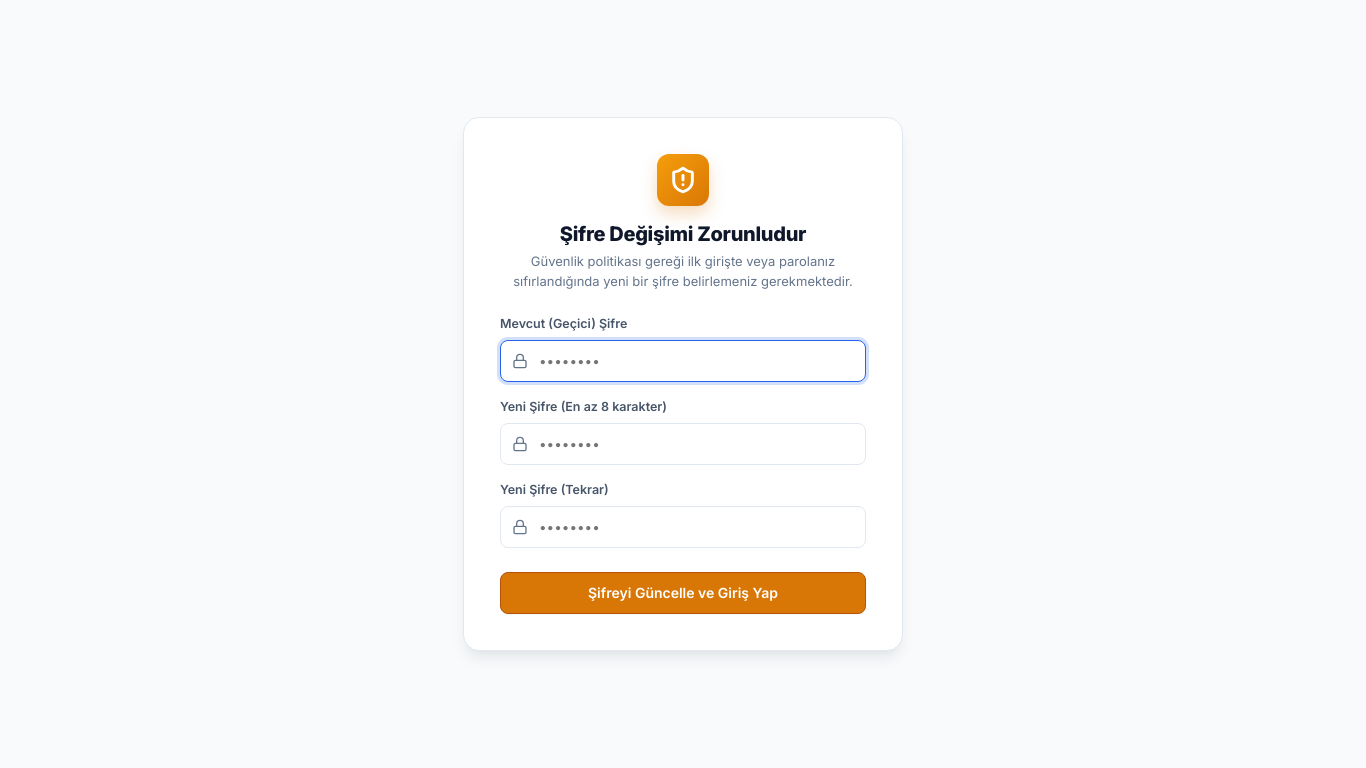
Test: ForceChangePassword Component › should display error if new password and confirmation do not match
Type "oldpass123" into the password field labelled "Mevcut (Geçici) Şifre".
click(683, 361); type("oldpass123")  # box left=500, top=340, right=866, bottom=382
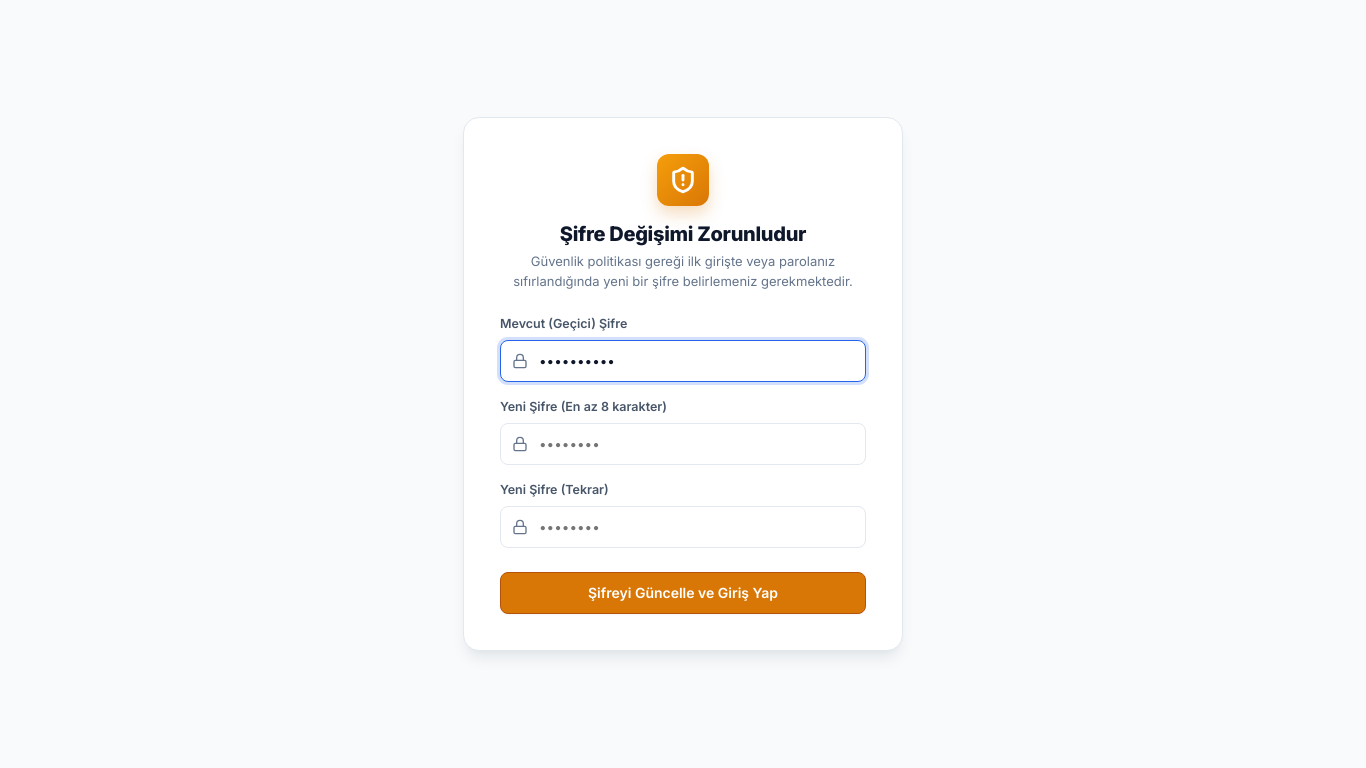
Type "newpassword123" into the password field labelled "Yeni Şifre (En az 8 karakter)".
click(683, 444); type("newpassword123")  # box left=500, top=423, right=866, bottom=465
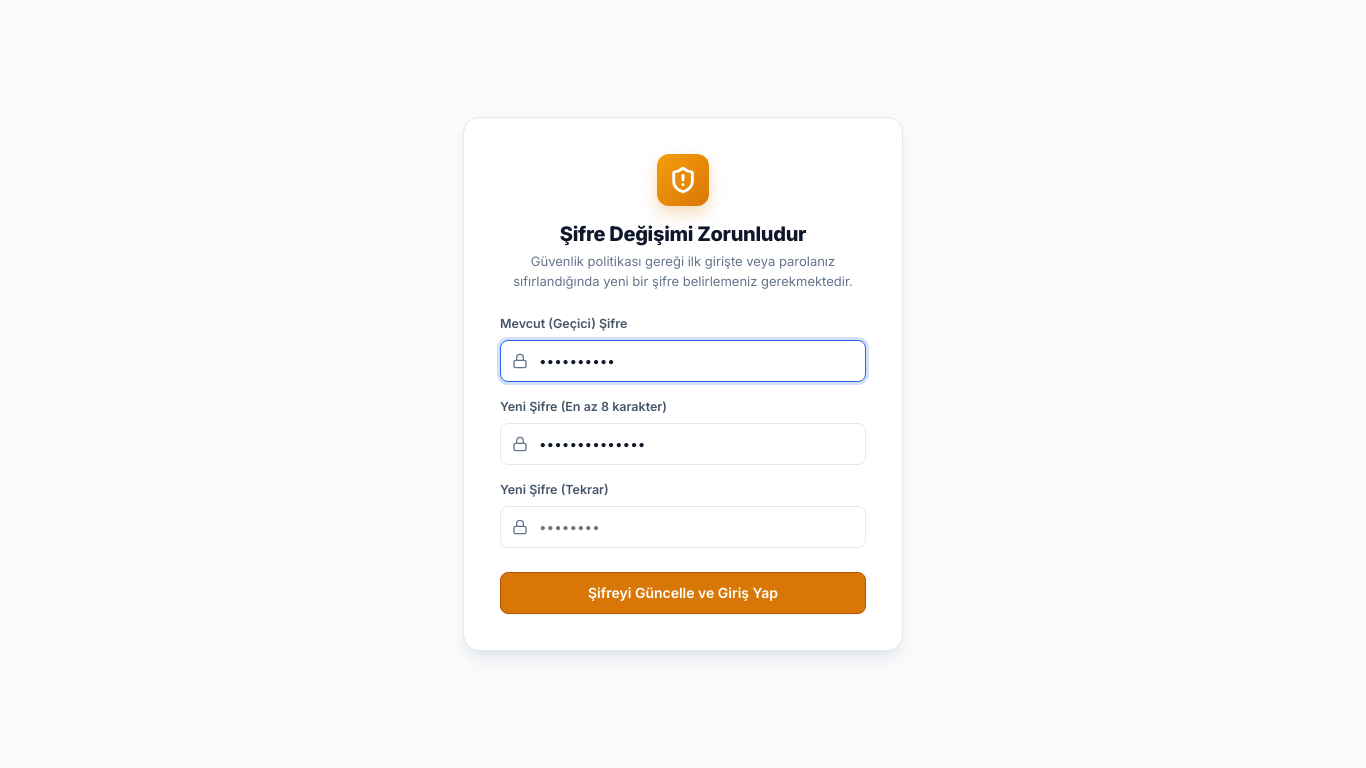
Type "mismatchpassword" into the password field labelled "Yeni Şifre (Tekrar)".
click(683, 527); type("mismatchpassword")  # box left=500, top=506, right=866, bottom=548
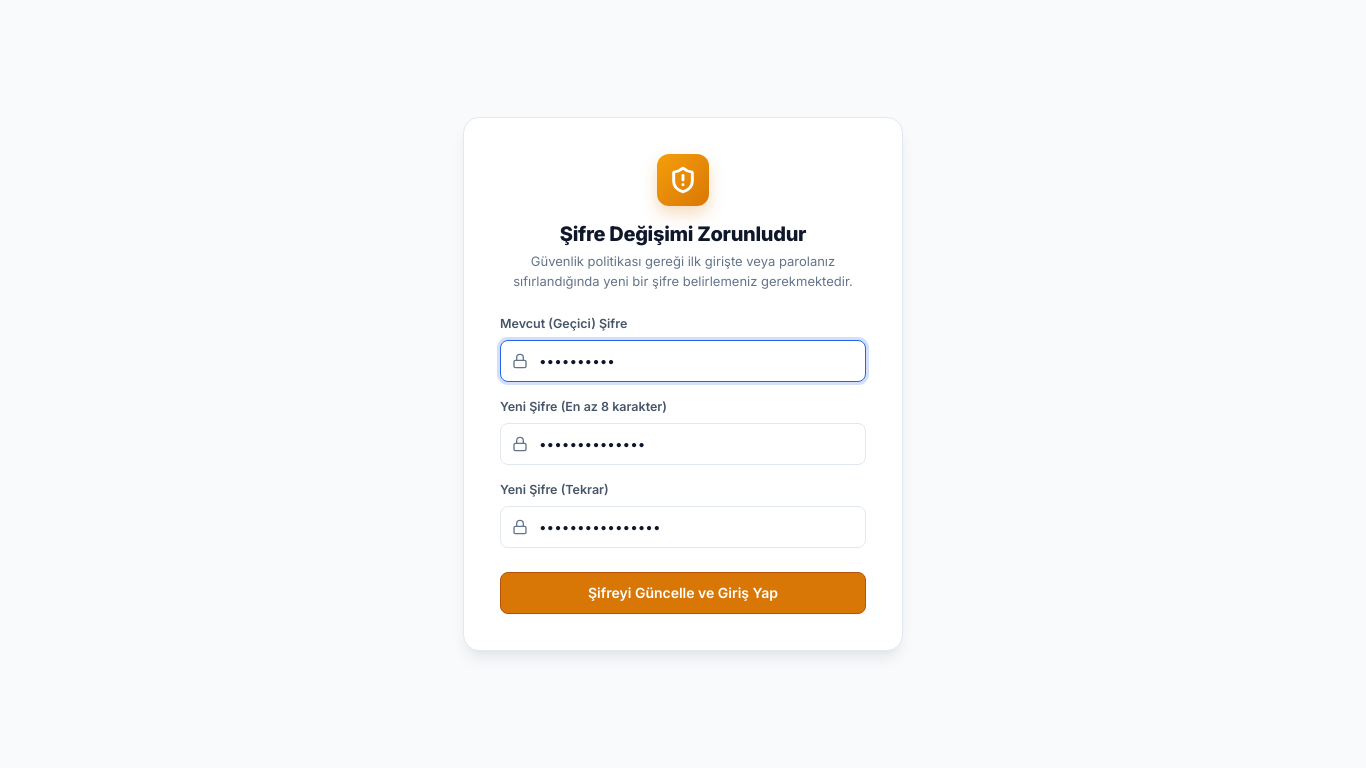
Click the button "Şifreyi Güncelle ve Giriş Yap".
click(683, 593)  # box left=500, top=572, right=866, bottom=614
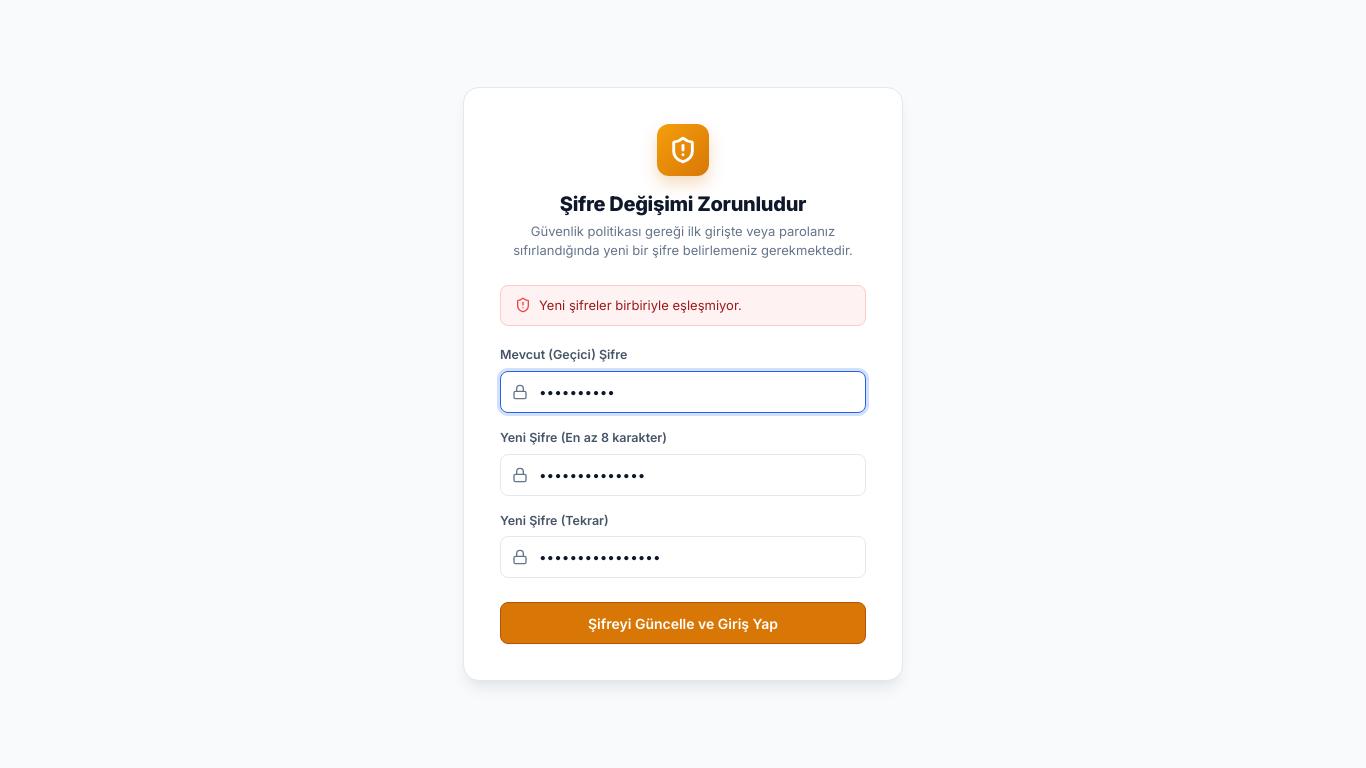
Expected: the text "Yeni şifreler birbiriyle eşleşmiyor." is shown, left=539, top=296, right=742, bottom=315
